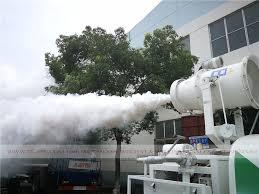smoke: (0, 78, 175, 175)
